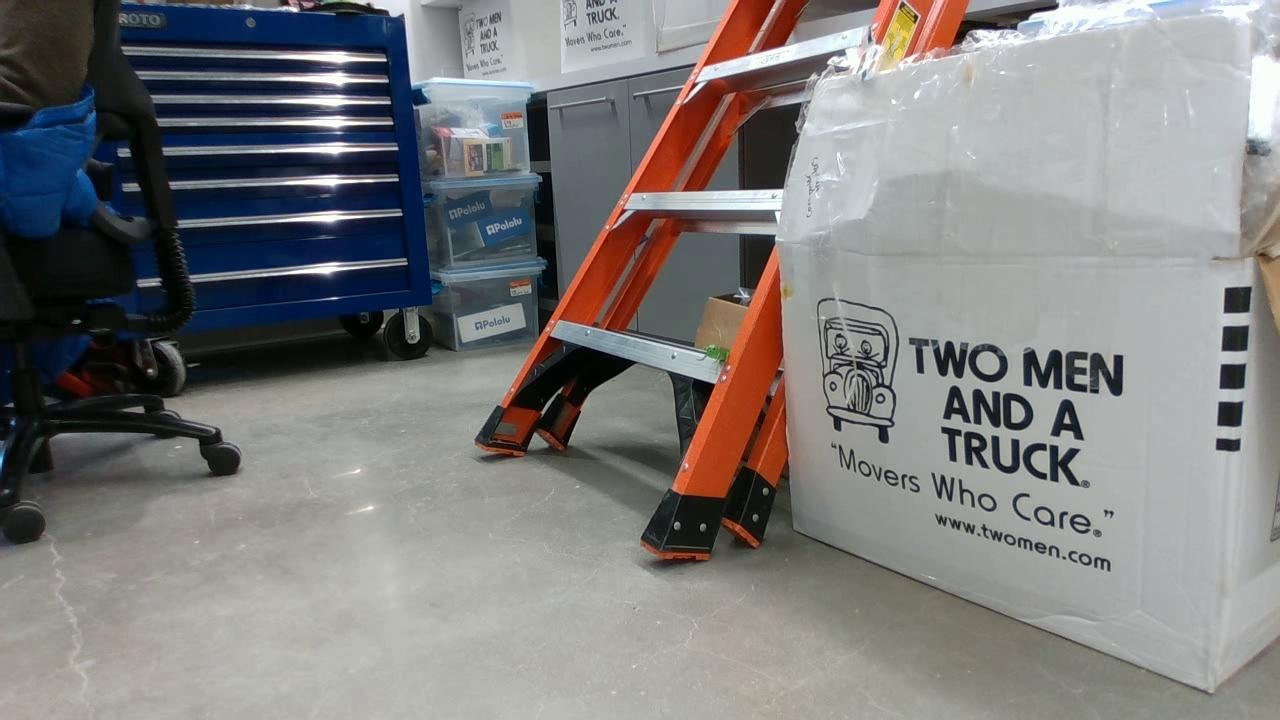grasshopper: (699, 345, 734, 365)
